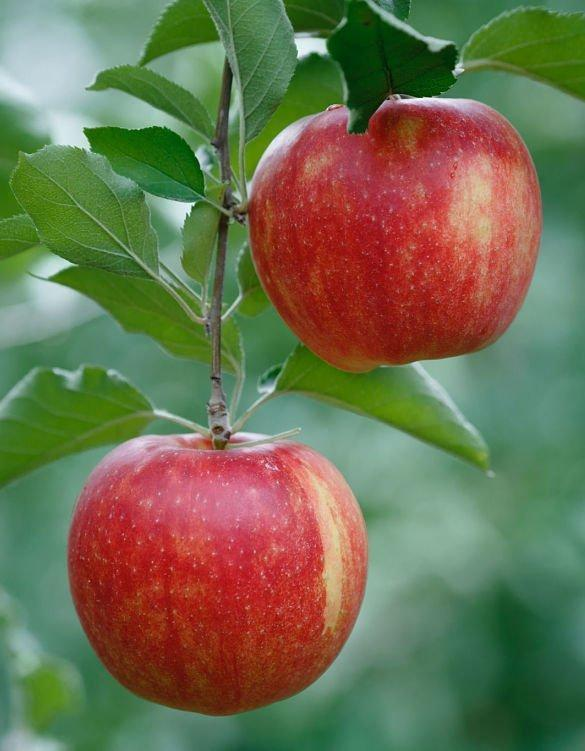apple: (64, 434, 372, 717), (243, 100, 544, 380)
